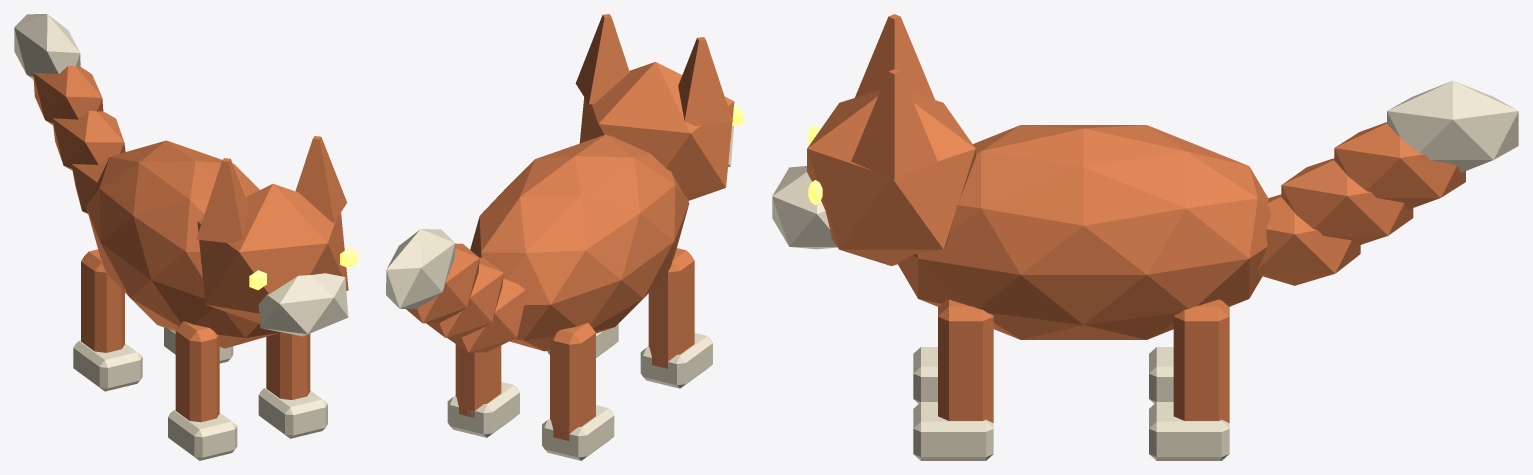
File: fox.glb
The picture shows the model from 3 angles, left to right: view 1: azimuth 30°, elevation 25°; view 2: azimuth 150°, elevation 25°; view 3: azimuth 270°, elevation 25°; orthographic projection. The views are drawn at different scales.
Parts seen in each view (by area): view 1: fox; view 2: fox; view 3: fox.
Part boxes in pixels (bbox=[...]): fox: bbox=[14, 14, 357, 460]; fox: bbox=[386, 14, 743, 460]; fox: bbox=[772, 14, 1518, 460].
Size of the model in its own units: 0.7 by 1.35 by 2.41.
